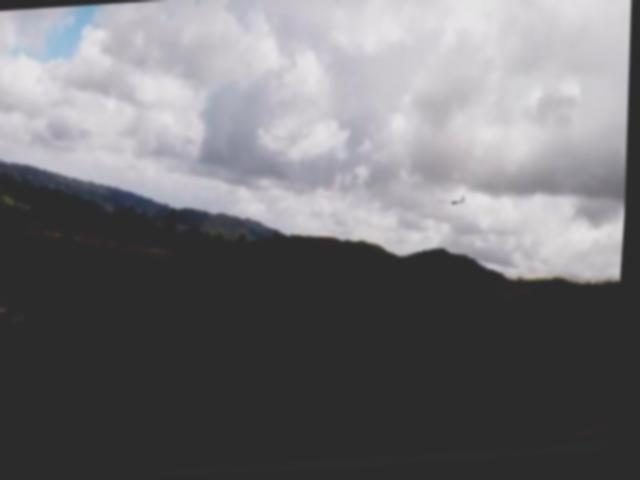iha: (440, 198, 472, 213)
